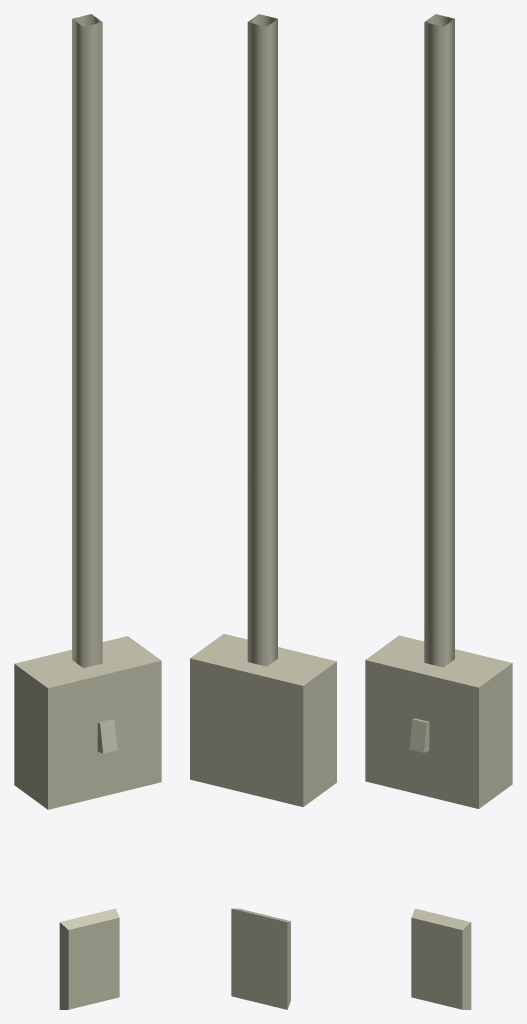
The model's file is Switches.fbx.
The picture shows the model from 3 angles, left to right: view 1: azimuth 30°, elevation 25°; view 2: azimuth 150°, elevation 25°; view 3: azimuth 330°, elevation 25°; orthographic projection.
Visible parts, largest first — view 1: pCube193, pCube191, pCube192, pCube190; view 2: pCube193, pCube191, pCube192; view 3: pCube193, pCube191, pCube192, pCube190.
Part boxes in pixels (box(x1,y1,x2,y2)): pCube193: box(14, 636, 161, 809); pCube191: box(72, 14, 102, 667); pCube192: box(59, 908, 119, 1009); pCube190: box(97, 719, 117, 753); pCube193: box(190, 634, 336, 806); pCube191: box(247, 14, 277, 666); pCube192: box(231, 908, 290, 1009); pCube193: box(365, 635, 512, 808); pCube191: box(424, 14, 454, 667); pCube192: box(411, 908, 471, 1009); pCube190: box(409, 718, 429, 752).
Size of the model in its own units: 0.4585 by 3.8 by 0.2744.
